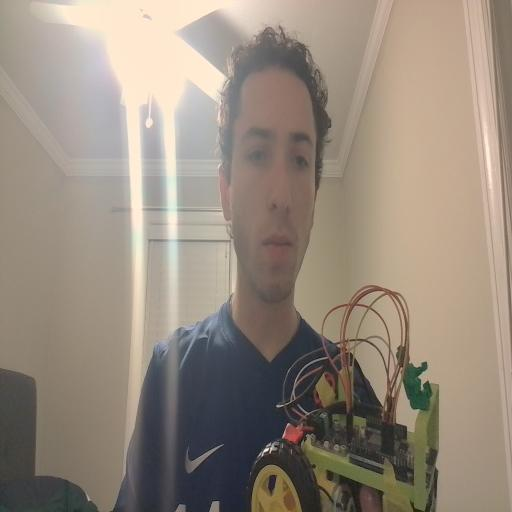green LEGO minifig: (394, 344, 436, 412)
